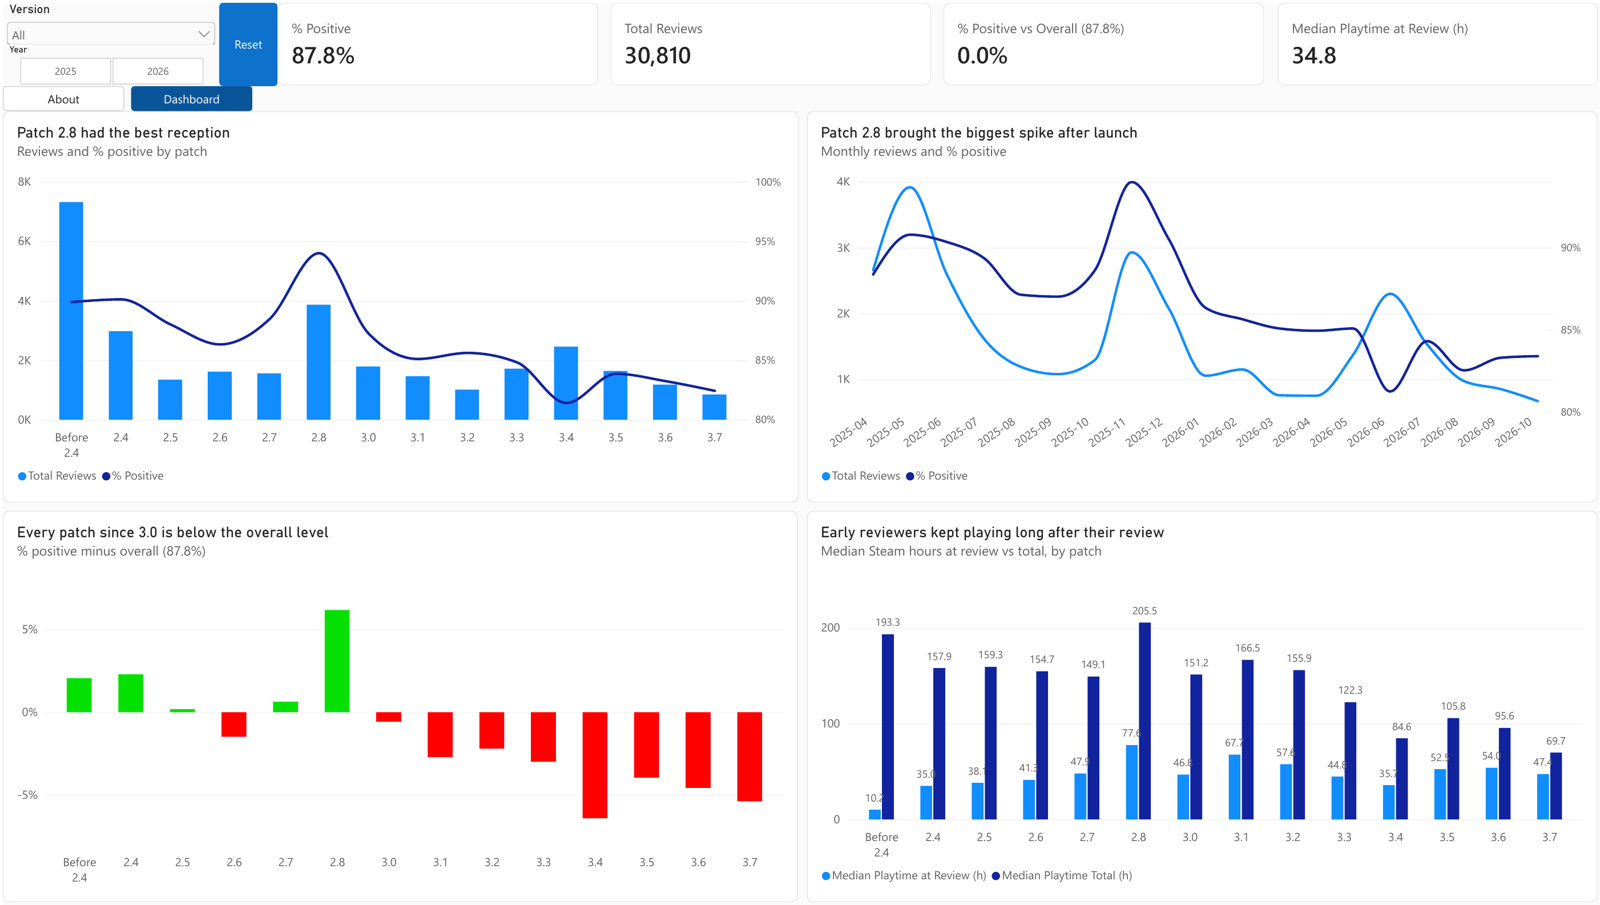

What the dashboard file says about the page in this screenshot:
{"tool":"powerbi","page":{"name":"Dashboard","canvas":[1920,1080],"ordinal":2},"visuals":[{"type":"lineClusteredColumnComboChart","title":"Patch 2.8 had the best reception","fields":{"Category":["Dim_Patch.Version"],"Y":["_Measures.Total Reviews"],"Y2":["_Measures.% Positive"]},"box":[0,130,956,470],"z":0},{"type":"clusteredColumnChart","title":"Every patch since 3.0 is below the overall level","fields":{"Category":["Dim_Patch.Version"],"Y":["_Measures.% Positive vs Overall"]},"box":[0,610,955,470],"z":1000},{"type":"lineChart","title":"Patch 2.8 brought the biggest spike after launch","fields":{"Category":["Calendar.Year_Month"],"Y":["_Measures.Total Reviews"],"Y2":["_Measures.% Positive"]},"box":[966,130,950,470],"z":2000},{"type":"slicer","fields":{"Values":["Dim_Patch.Version"]},"box":[0,0,260,50],"z":3000},{"type":"slicer","fields":{"Values":["Calendar.Year"]},"box":[0,50,260,50],"z":4000},{"type":"clusteredColumnChart","title":"Early reviewers kept playing long after their review","fields":{"Category":["Dim_Patch.Version"],"Y":["_Measures.Median Playtime at Review (h)","_Measures.Median Playtime Total (h)"]},"box":[965,610,950,470],"z":5000},{"type":"cardVisual","fields":{"Data":["_Measures.% Positive"]},"box":[330,0,385,100],"z":6000},{"type":"cardVisual","fields":{"Data":["_Measures.Total Reviews"]},"box":[730,0,385,100],"z":7000},{"type":"cardVisual","fields":{"Data":["_Measures.% Positive vs Overall"]},"box":[1130,0,385,100],"z":8000},{"type":"cardVisual","fields":{"Data":["_Measures.Median Playtime at Review (h)"]},"box":[1530.8,0,385,100],"z":9000},{"type":"actionButton","box":[260,0,70,100],"z":10000},{"type":"pageNavigator","box":[0,100,300,30],"z":11000}]}

Visuals, with their boxes on the page's 1920x1080 design canvas (x1, y1, x2, y2). These are canvas units, not pixel positions in the 1600x905 screenshot, which may show the page scaled, cropped or inside an application window:
"Patch 2.8 had the best reception" lineClusteredColumnComboChart: x1=0, y1=130, x2=956, y2=600
"Every patch since 3.0 is below the overall level" clusteredColumnChart: x1=0, y1=610, x2=955, y2=1080
"Patch 2.8 brought the biggest spike after launch" lineChart: x1=966, y1=130, x2=1916, y2=600
slicer - Dim_Patch.Version: x1=0, y1=0, x2=260, y2=50
slicer - Calendar.Year: x1=0, y1=50, x2=260, y2=100
"Early reviewers kept playing long after their review" clusteredColumnChart: x1=965, y1=610, x2=1915, y2=1080
cardVisual - _Measures.% Positive: x1=330, y1=0, x2=715, y2=100
cardVisual - _Measures.Total Reviews: x1=730, y1=0, x2=1115, y2=100
cardVisual - _Measures.% Positive vs Overall: x1=1130, y1=0, x2=1515, y2=100
cardVisual - _Measures.Median Playtime at Review (h): x1=1531, y1=0, x2=1916, y2=100
actionButton: x1=260, y1=0, x2=330, y2=100
pageNavigator: x1=0, y1=100, x2=300, y2=130
